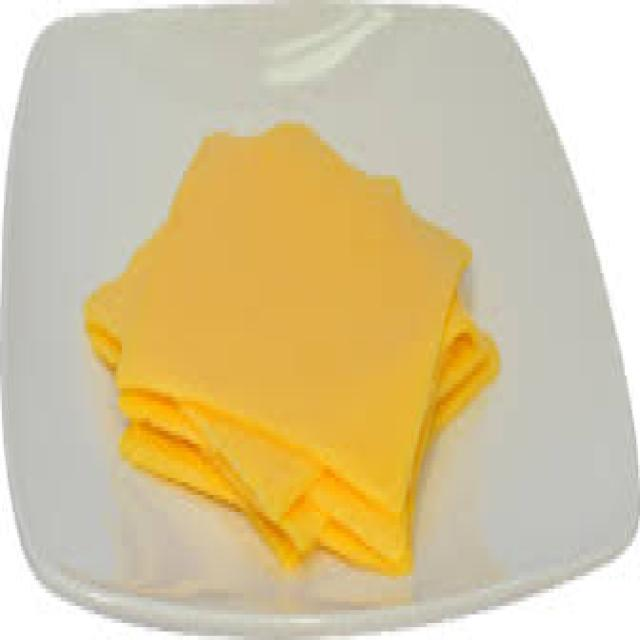cheese: (81, 120, 500, 580)
